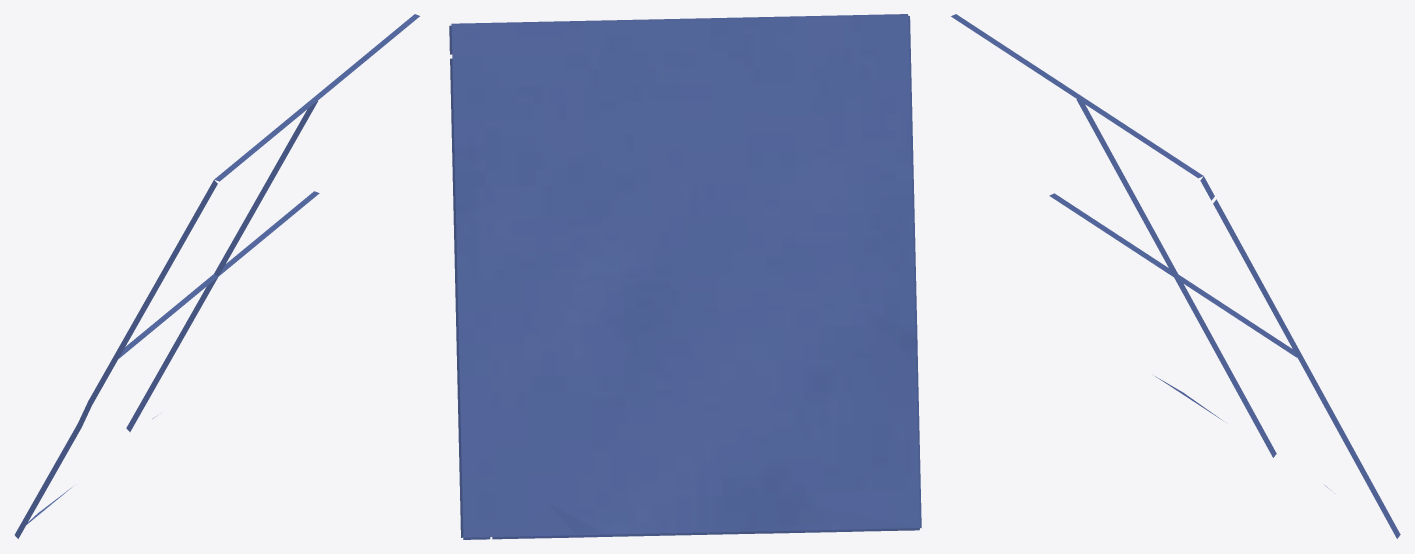
3 views of the same model, side by side, from view 1: azimuth 30°, elevation 25°; view 2: azimuth 150°, elevation 25°; view 3: azimuth 270°, elevation 25° (orthographic). The views are drawn at different scales.
Size of the model in its own units: 39391 by 35283 by 34489.
Materials: 1 (1 with a texture image).
